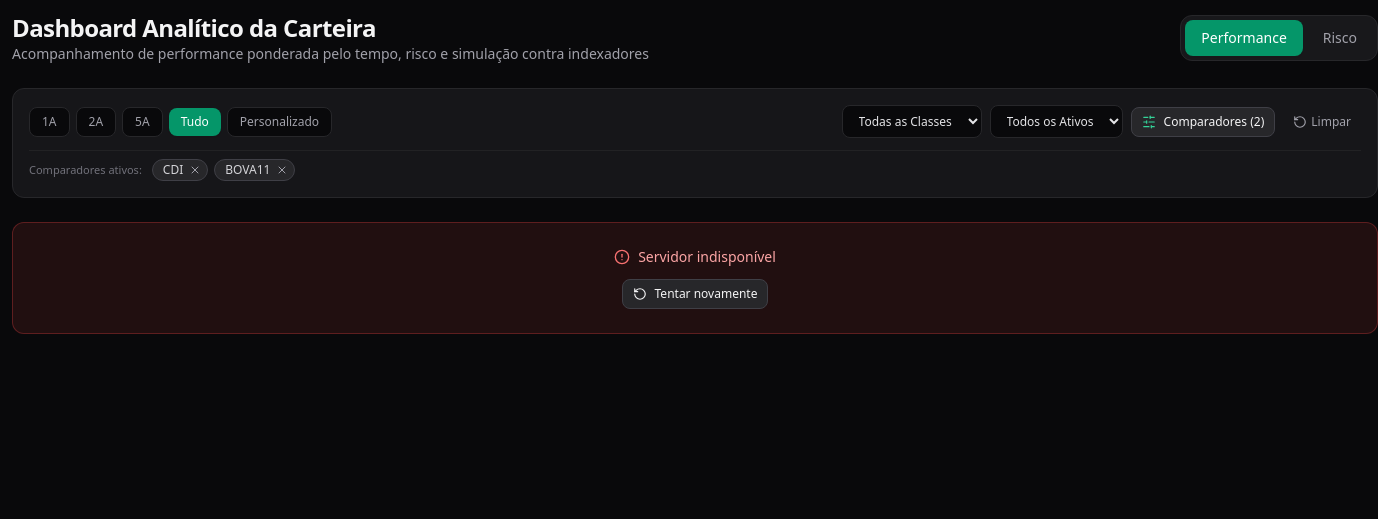
Test: Gating pelo status do token DLP › falha em /dlp/token-status mostra erro com nova tentativa, não skeleton infinito
Check: the text "Servidor indisponível" is shown, box x1=638 y1=247 x2=776 y2=267
Click the button "Tentar novamente": coordinates (695, 294) x1=622 y1=279 x2=768 y2=309
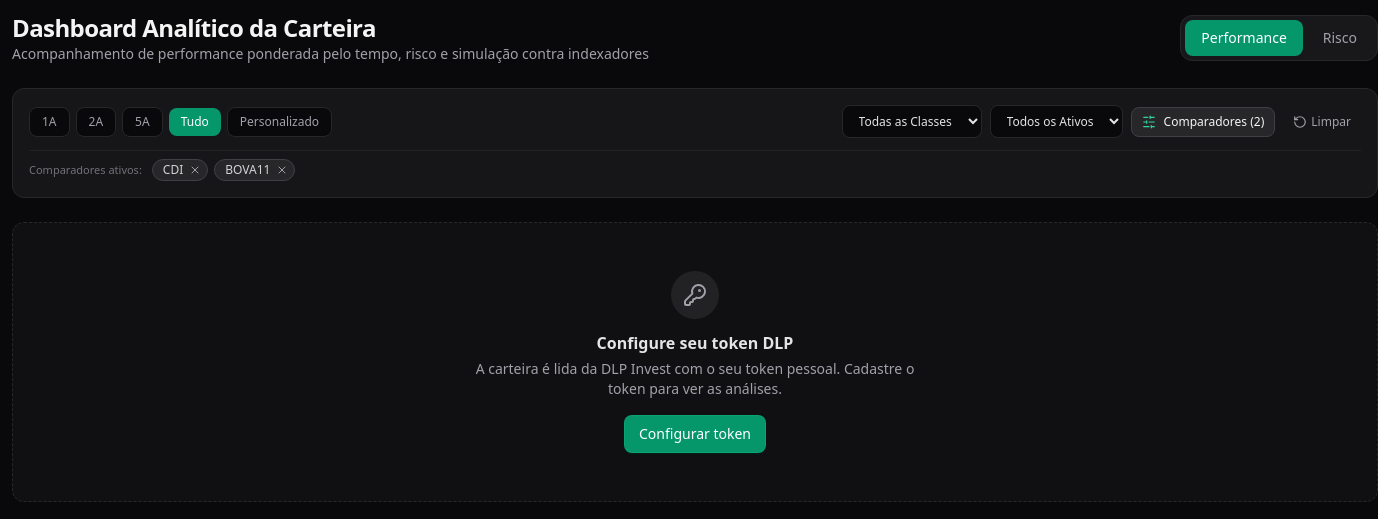
Check: the heading "Configure seu token DLP" is shown, box x1=597 y1=331 x2=793 y2=355
